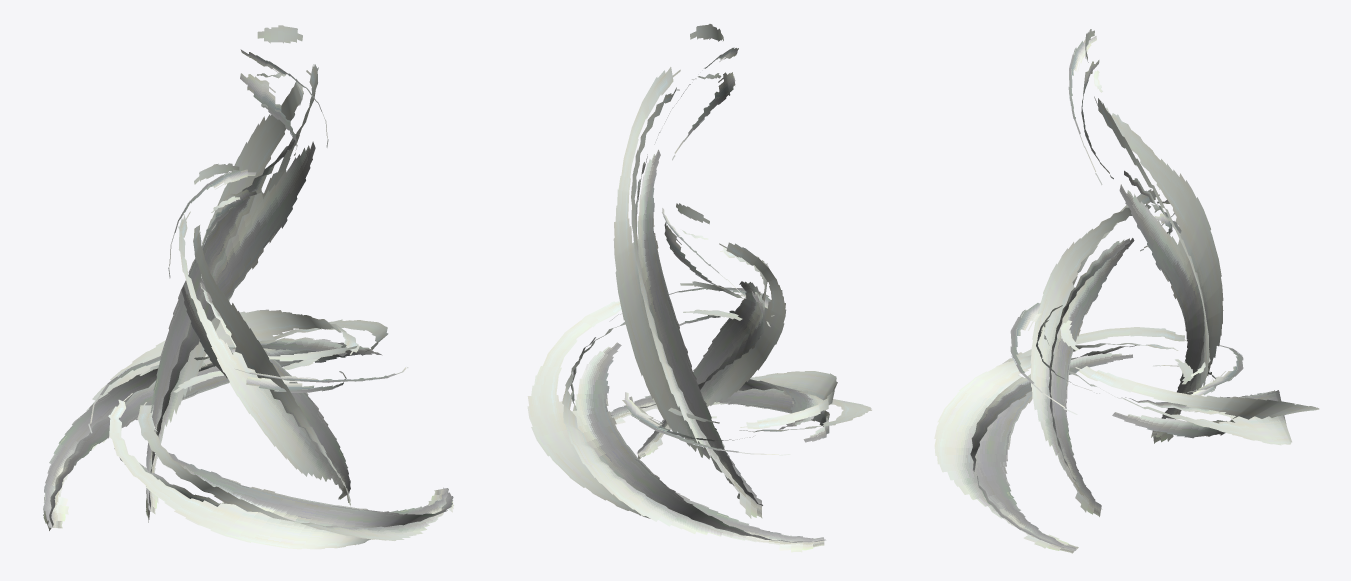
The model's file is dongzuo #6129017.fbx.
3 renders of one model, left to right at view 1: azimuth 30°, elevation 25°; view 2: azimuth 150°, elevation 25°; view 3: azimuth 270°, elevation 25°, orthographic. The views are drawn at different scales.
Visible parts, largest first — view 1: sidai; view 2: sidai; view 3: sidai.
Part boxes in pixels (x1=…): sidai: x1=43, y1=25, x2=453, y2=549; sidai: x1=527, y1=24, x2=871, y2=552; sidai: x1=934, y1=29, x2=1319, y2=553.
Bounding box in the file's own units: 2.37 × 3.09 × 2.38.
